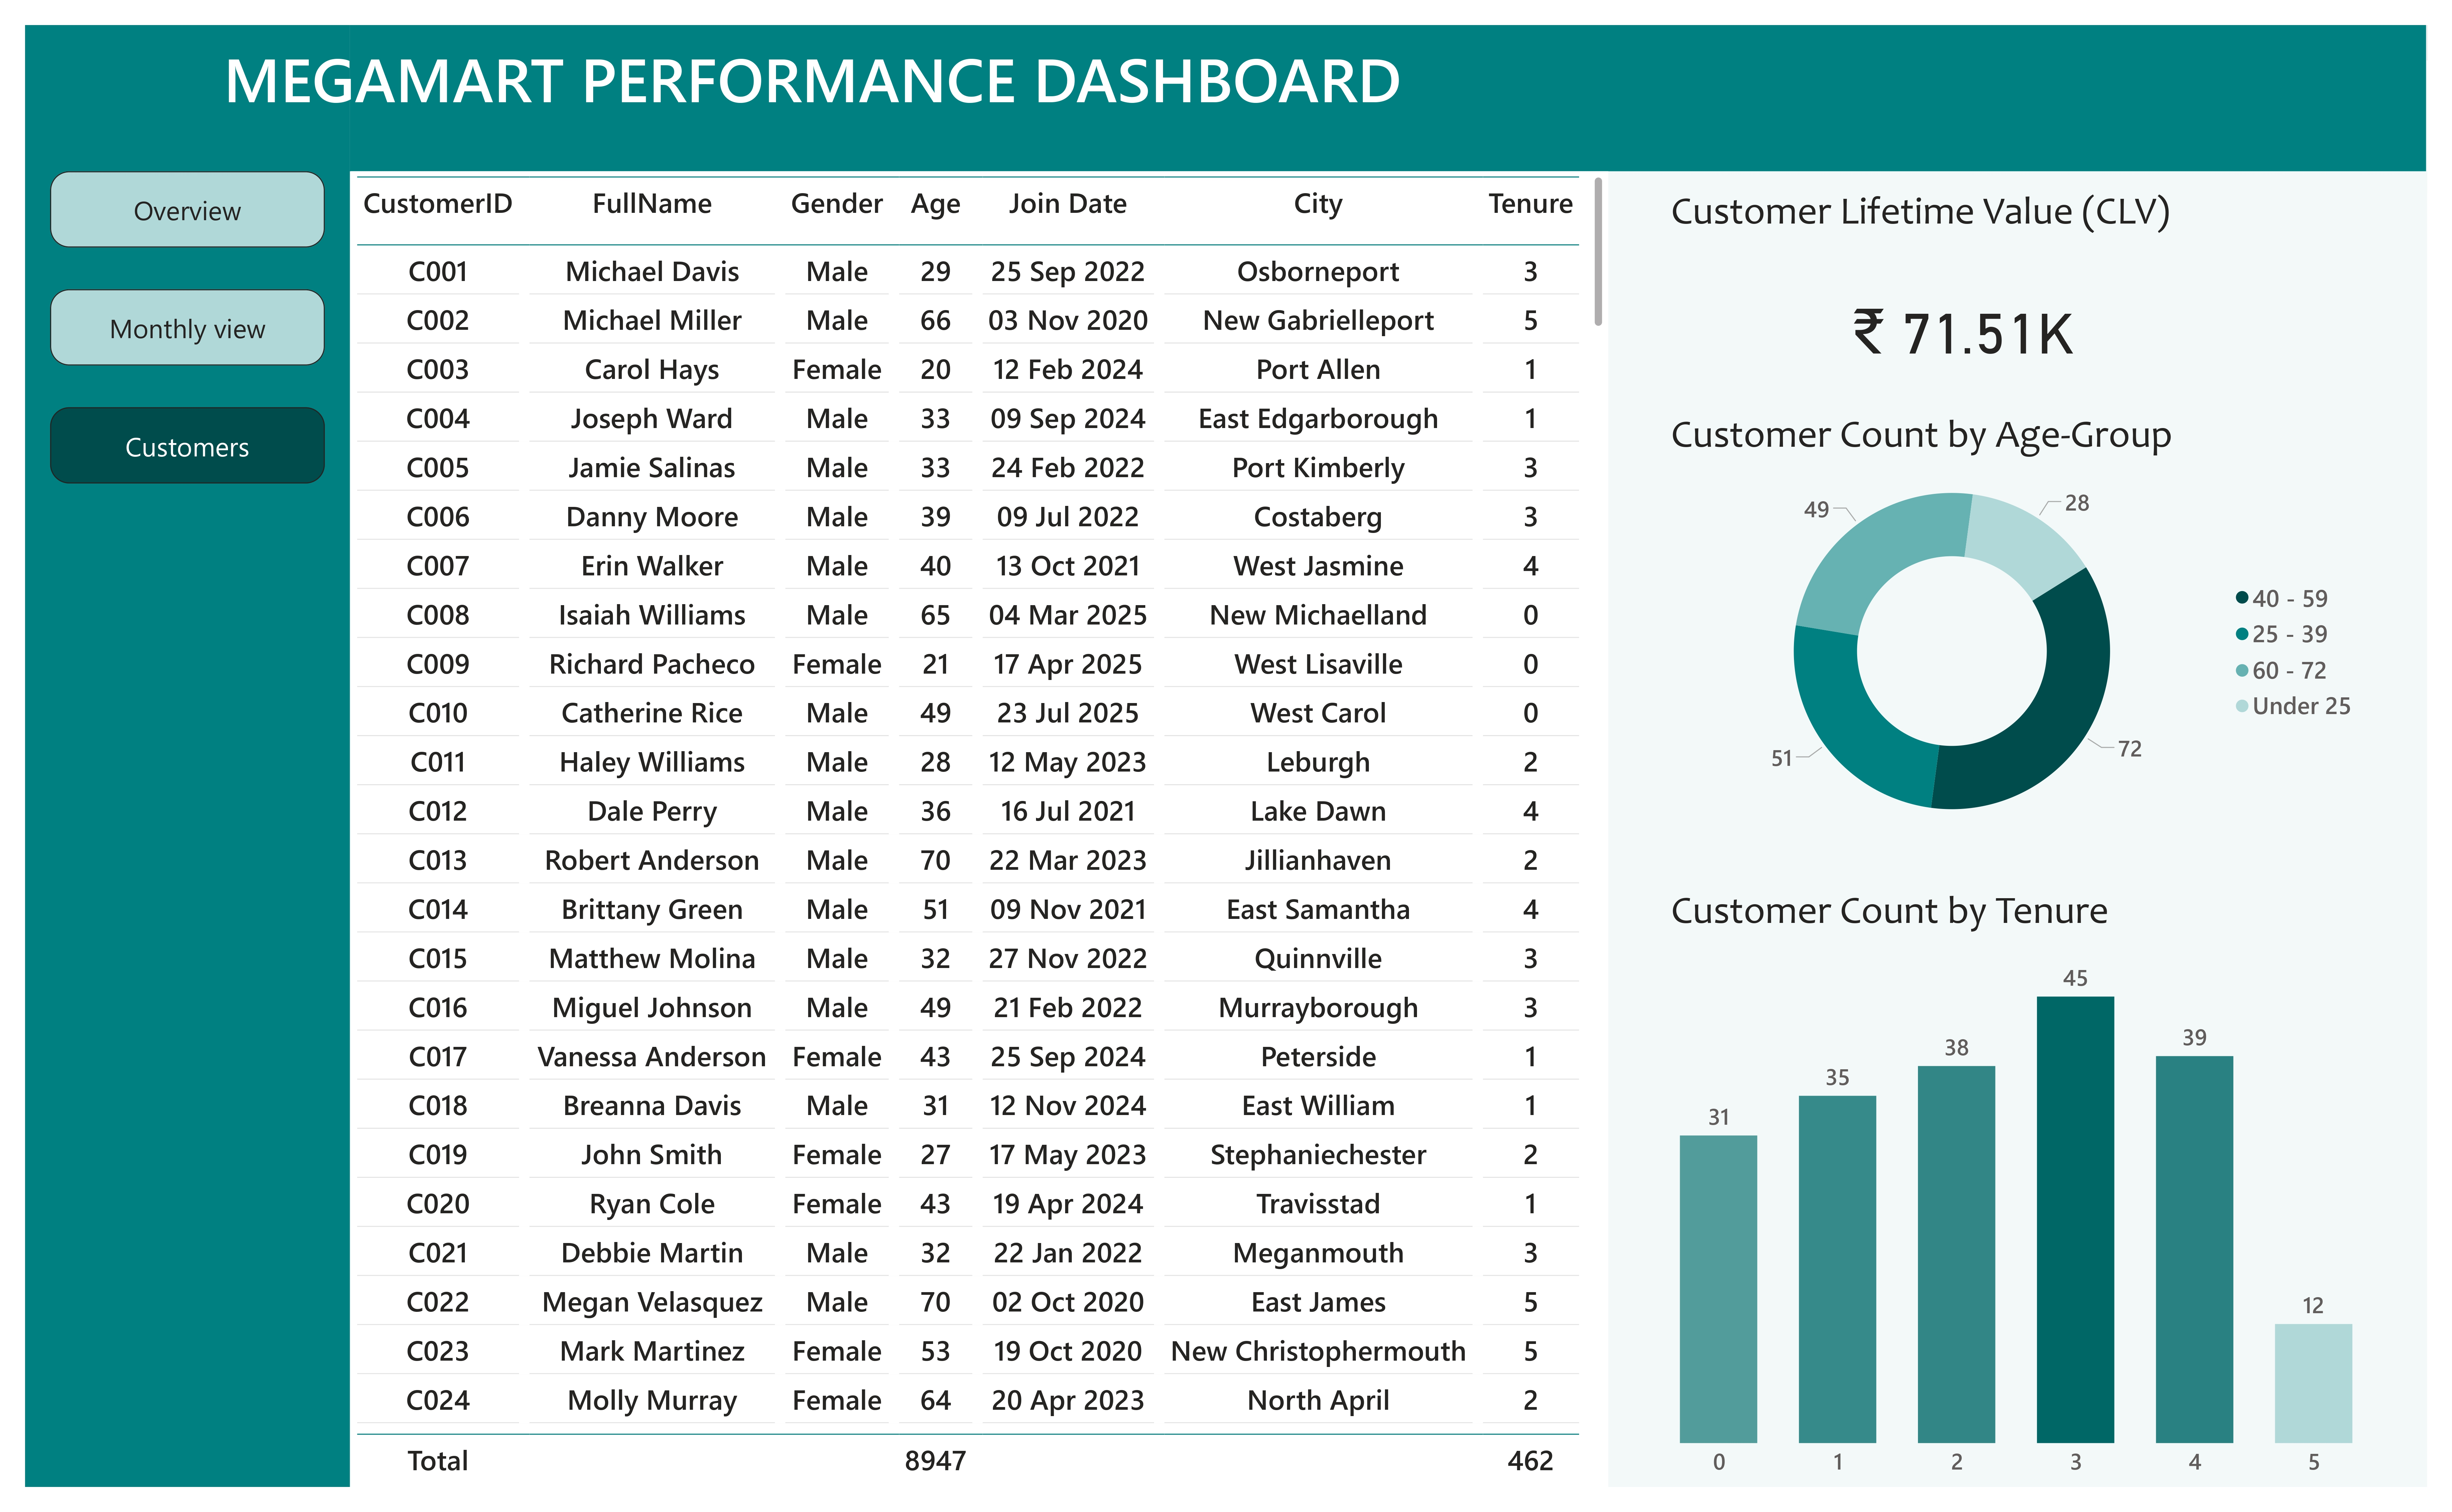

The dashboard page shown, as its layout file describes it:
{"tool":"powerbi","page":{"name":"Customers","canvas":[2300,1400],"ordinal":2},"visuals":[{"type":"shape","box":[0,0,310.8,1400],"z":0},{"type":"shape","box":[310.8,0,1988.5,140],"z":1000},{"type":"textbox","box":[27.5,0,1453.4,129.9],"z":2000},{"type":"tableEx","fields":{"Values":["Customers.CustomerID","Customers.FullName","Customers.Gender","Customers.Age","Customers.Join Date Formatted","Customers.City","Customers.Tenure"]},"box":[312.2,139.8,1203.7,1261.1],"z":3000},{"type":"donutChart","fields":{"Y":["Customers.CustomerID"],"Category":["Customers.Age Group"]},"box":[1570.8,379.7,671.5,439],"z":4000},{"type":"columnChart","fields":{"Category":["Customers.Tenure"],"Y":["Customers.CustomerID"]},"box":[1570.8,882.7,671.5,517.3],"z":5000},{"type":"textbox","box":[1570.8,818.6,448.5,64.1],"z":6000},{"type":"textbox","box":[1570.8,363.1,507.8,64.1],"z":7000},{"type":"card","fields":{"Values":["Transactions.CustomerLifetimeValue"]},"box":[1601.7,213.6,507.8,149.5],"z":8000},{"type":"textbox","box":[1570.8,149.5,507.8,64.1],"z":9000},{"type":"pageNavigator","box":[23.7,140,263.4,301.4],"z":10000}]}

Visuals, with their boxes on the page's 2300x1400 design canvas (x1, y1, x2, y2). These are canvas units, not pixel positions in the 2452x1512 screenshot, which may show the page scaled, cropped or inside an application window:
shape: bbox=[0, 0, 311, 1400]
shape: bbox=[311, 0, 2299, 140]
textbox: bbox=[28, 0, 1481, 130]
tableEx - Customers.CustomerID x Customers.FullName: bbox=[312, 140, 1516, 1401]
donutChart - Customers.CustomerID x Customers.Age Group: bbox=[1571, 380, 2242, 819]
columnChart - Customers.Tenure x Customers.CustomerID: bbox=[1571, 883, 2242, 1400]
textbox: bbox=[1571, 819, 2019, 883]
textbox: bbox=[1571, 363, 2079, 427]
card - Transactions.CustomerLifetimeValue: bbox=[1602, 214, 2110, 363]
textbox: bbox=[1571, 150, 2079, 214]
pageNavigator: bbox=[24, 140, 287, 441]
